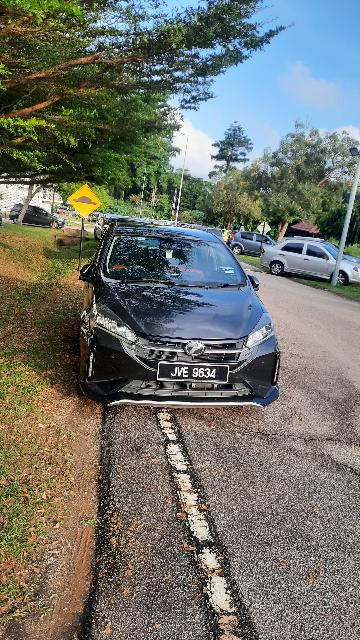License_Plate: (155, 362, 233, 389)
car: (72, 217, 287, 418)
